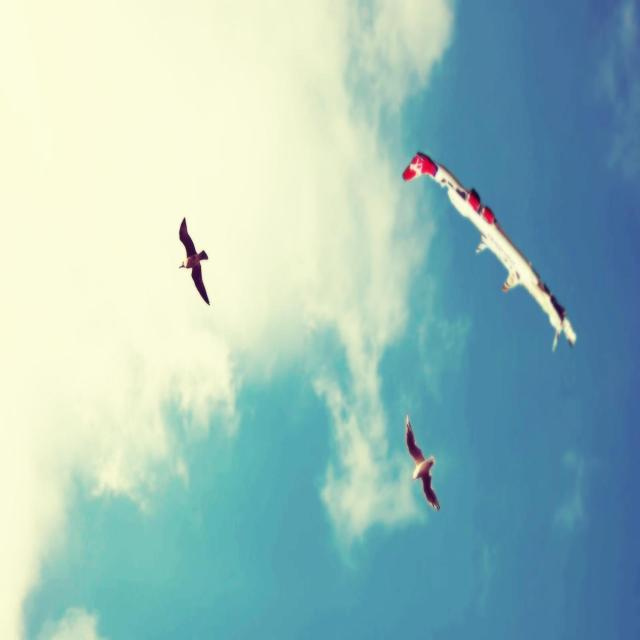airplane: (402, 151, 576, 352)
